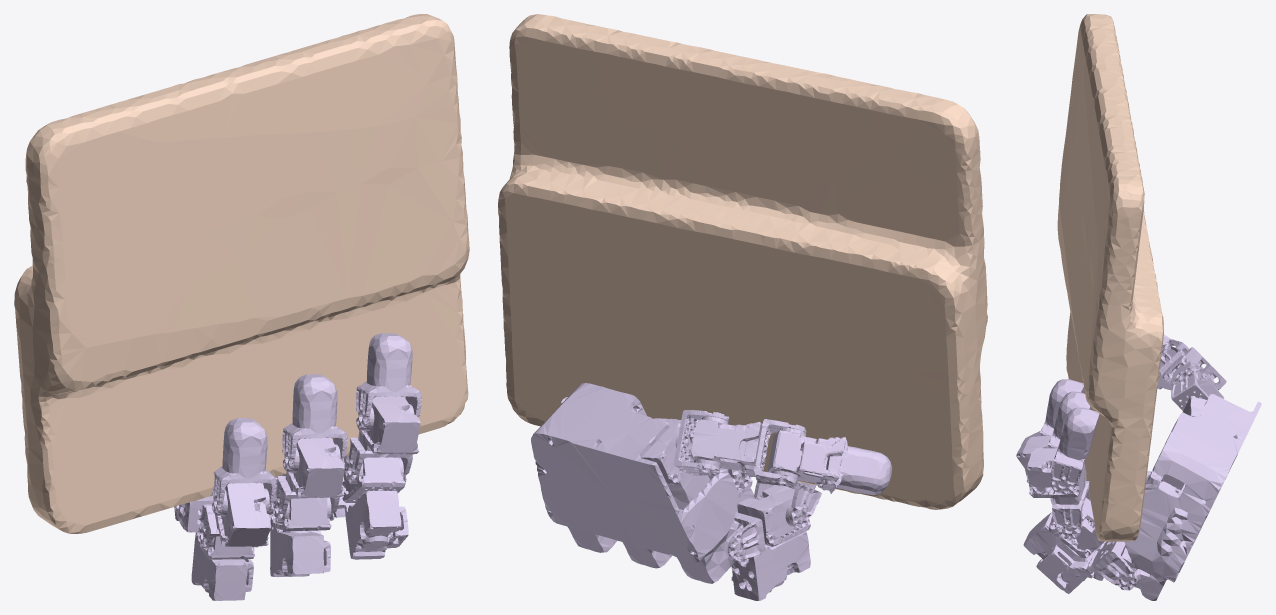
Rendered from d26d0700de9688-closed.glb.
3 views of the same model, side by side, from view 1: azimuth 30°, elevation 25°; view 2: azimuth 150°, elevation 25°; view 3: azimuth 270°, elevation 25° (orthographic). The views are drawn at different scales.
Parts seen in each view (by area): view 1: world, LEAP_hand; view 2: world, LEAP_hand; view 3: world, LEAP_hand.
Part boxes in pixels (<box>): world: <box>14,14,469,533</box>; LEAP_hand: <box>174,333,421,600</box>; world: <box>498,14,987,509</box>; LEAP_hand: <box>531,383,892,600</box>; world: <box>1057,14,1163,541</box>; LEAP_hand: <box>1016,334,1261,600</box>.
Size of the model in its own units: 0.3052 by 0.3414 by 0.1635.
